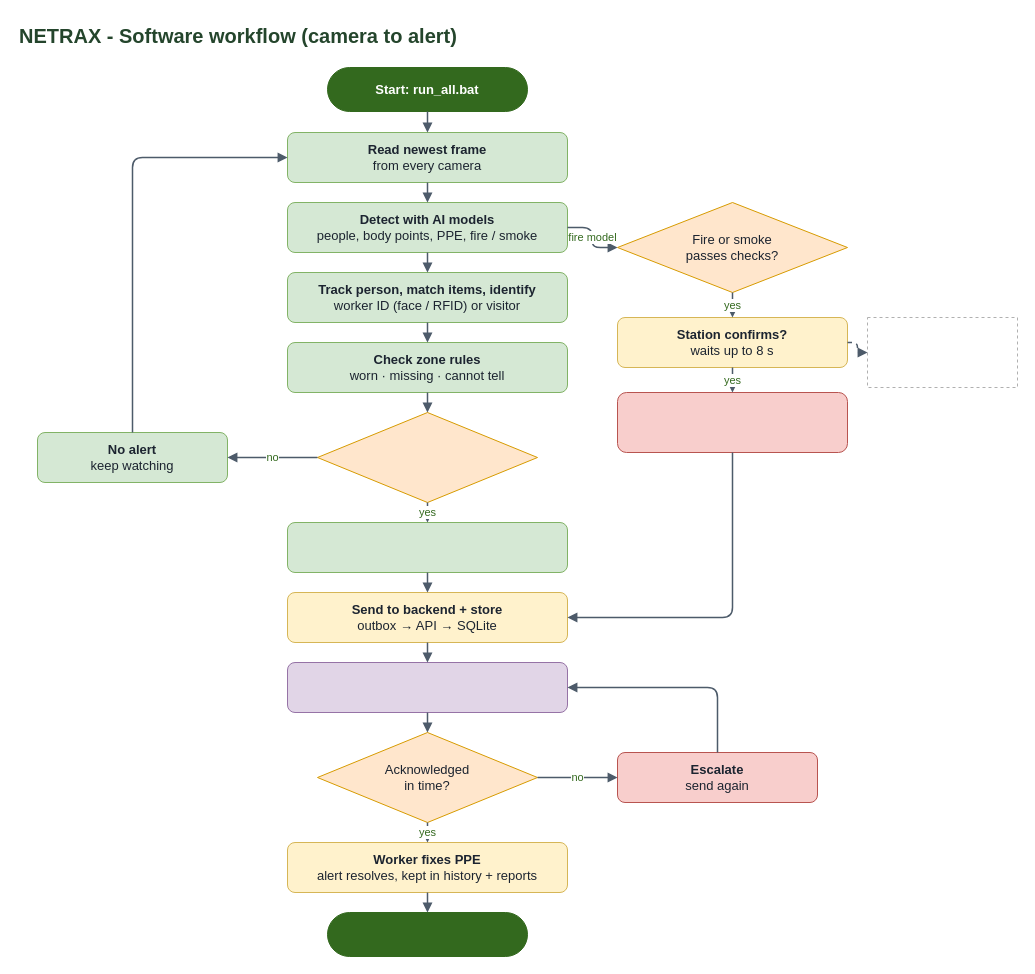
This 1035x974 diagram has some shape labels left out. The shapes that lost their labels are listed below. From the top down, each one's centre as x and y in pixels, then its label:
the point at 942,352: Station offline: camera alone decides
the point at 732,422: Fire level 1 / 2 / 3 siren from level 2 + phone call
the point at 427,457: Missing in 6 of 10 frames?
the point at 427,547: Create ONE alert who · what · where · snapshot · clip
the point at 427,687: Notify dashboard · voice · Telegram · e-mail
the point at 427,934: End of incident
